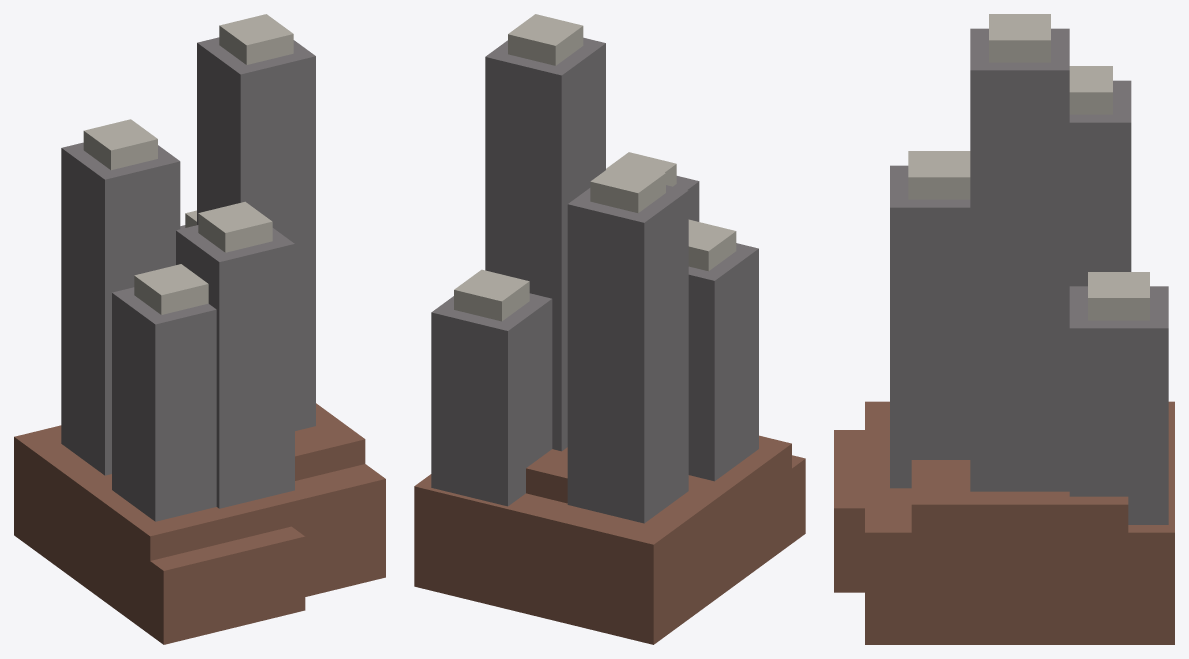
File: TubeCoral_Green.obj
3 renders of one model, left to right at view 1: azimuth 30°, elevation 25°; view 2: azimuth 150°, elevation 25°; view 3: azimuth 270°, elevation 25°, orthographic. The views are drawn at different scales.
Parts seen in each view (by area): view 1: TubeCoral_Green; view 2: TubeCoral_Green; view 3: TubeCoral_Green.
Boxes of the visible parts, x1,y1,x2,y2 form: TubeCoral_Green: (14,14,385,644); TubeCoral_Green: (414,14,805,644); TubeCoral_Green: (834,14,1174,644).
Size of the model in its own units: 5 by 10.4 by 5.5.
